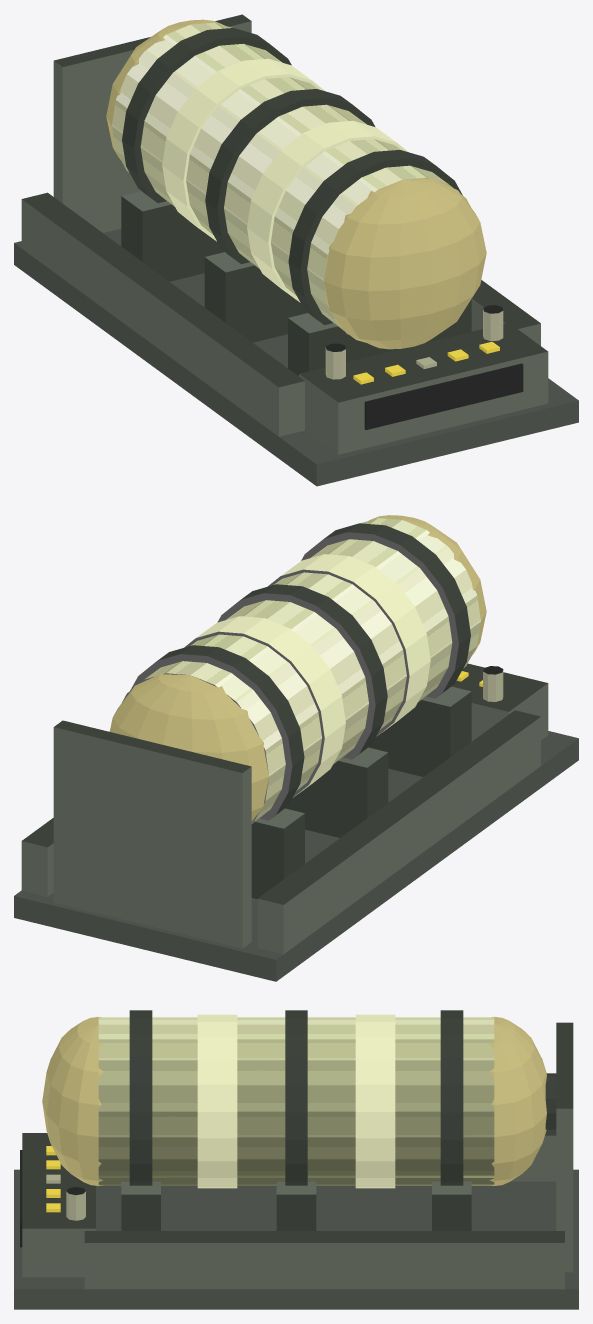
File: Building_VanometricPowerCell.glb
3 renders of one model, top to bottom at view 1: azimuth 30°, elevation 25°; view 2: azimuth 150°, elevation 25°; view 3: azimuth 270°, elevation 25°, orthographic. The views are drawn at different scales.
Visible parts, largest first — view 1: VanometricPowerCell; view 2: VanometricPowerCell; view 3: VanometricPowerCell.
Boxes of the visible parts, bbox=[...] form: VanometricPowerCell: bbox=[14, 14, 578, 486]; VanometricPowerCell: bbox=[14, 515, 578, 981]; VanometricPowerCell: bbox=[14, 1010, 578, 1309].
Bounding box in the file's own units: 1 × 0.905 × 2.
1 material, 1 textured.
